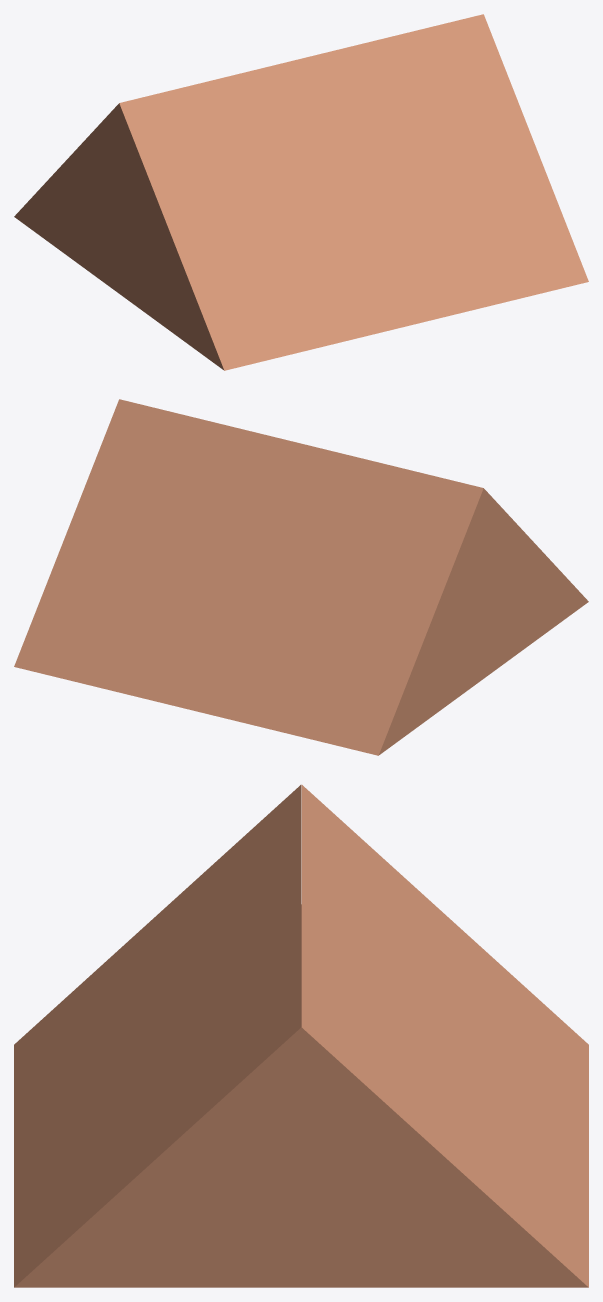
The model's file is kit_roof_pitched_warm.glb.
3 views of the same model, one above another, from view 1: azimuth 30°, elevation 25°; view 2: azimuth 150°, elevation 25°; view 3: azimuth 270°, elevation 25° (orthographic). The views are drawn at different scales.
Parts seen in each view (by area): view 1: kit_roof_pitched_warm-col; view 2: kit_roof_pitched_warm-col; view 3: kit_roof_pitched_warm-col.
Part boxes in pixels (x1=…): kit_roof_pitched_warm-col: x1=14, y1=14, x2=588, y2=370; kit_roof_pitched_warm-col: x1=14, y1=399, x2=588, y2=755; kit_roof_pitched_warm-col: x1=14, y1=784, x2=588, y2=1287.
Size of the model in its own units: 2 by 1 by 2.
